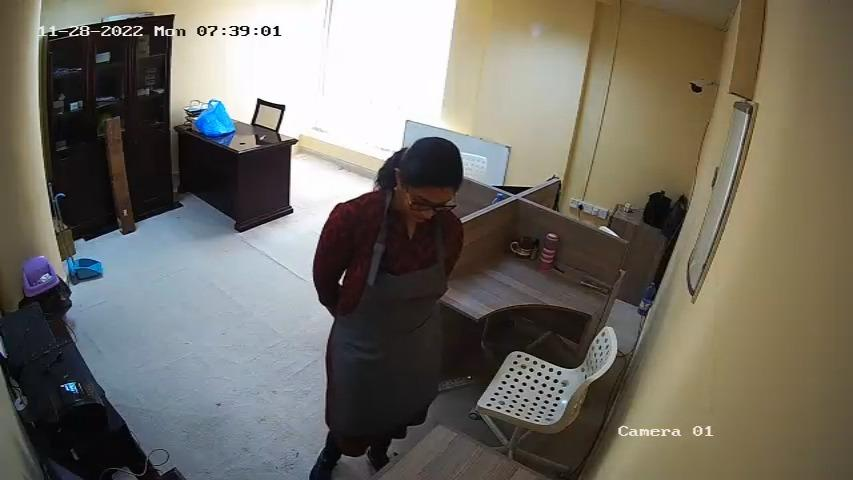apron: (332, 224, 448, 402)
